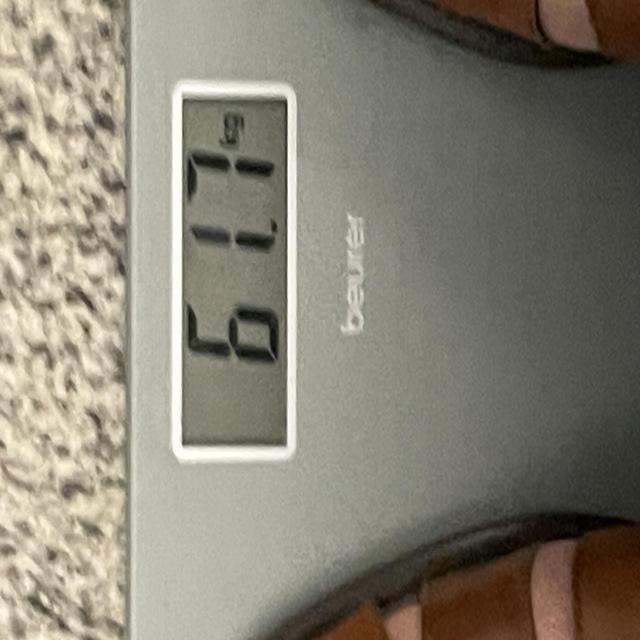ws: (117, 0, 640, 640)
